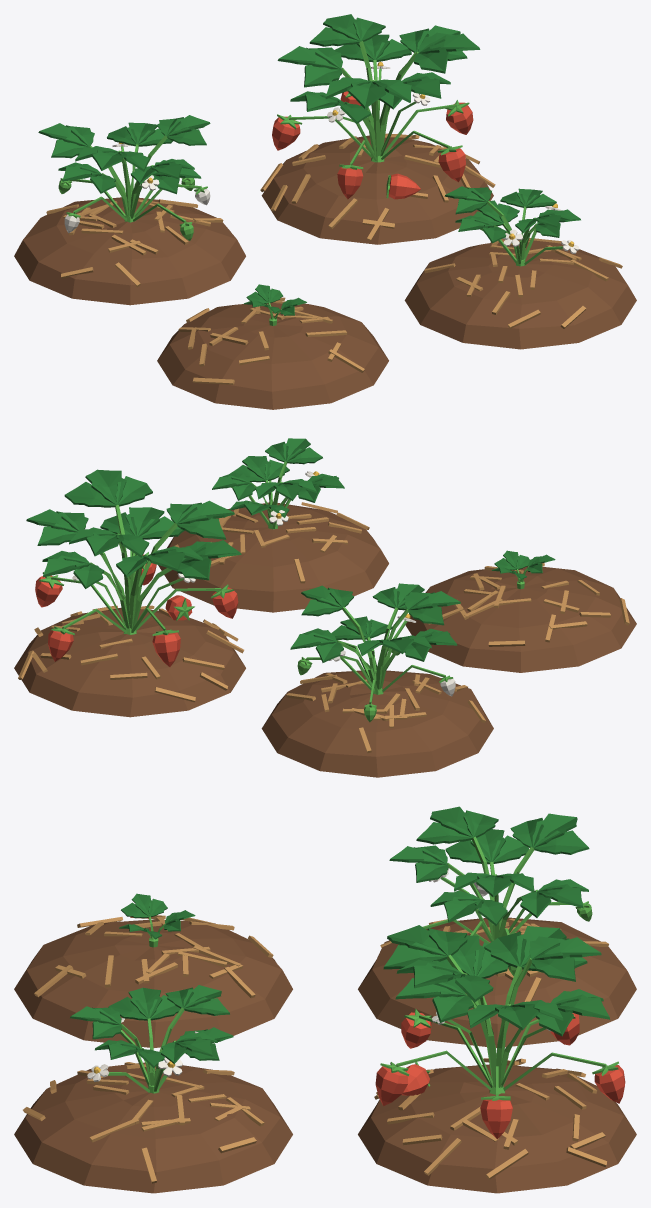
The model's file is strawberry-growth-stages.glb.
The picture shows the model from 3 angles, top to bottom: view 1: azimuth 30°, elevation 25°; view 2: azimuth 150°, elevation 25°; view 3: azimuth 270°, elevation 25°; orthographic projection. The views are drawn at different scales.
Parts seen in each view (by area): view 1: Strawberry_Stage4, Strawberry_Stage3, Strawberry_Stage2, Strawberry_Stage1; view 2: Strawberry_Stage4, Strawberry_Stage3, Strawberry_Stage2, Strawberry_Stage1; view 3: Strawberry_Stage4, Strawberry_Stage2, Strawberry_Stage3, Strawberry_Stage1.
Boxes of the visible parts, box(x1,y1,x2,y2) form: Strawberry_Stage4: box(260, 14, 495, 244); Strawberry_Stage3: box(14, 115, 245, 305); Strawberry_Stage2: box(404, 186, 636, 349); Strawberry_Stage1: box(157, 284, 388, 409); Strawberry_Stage4: box(14, 469, 245, 717); Strawberry_Stage3: box(261, 583, 493, 777); Strawberry_Stage2: box(158, 438, 388, 612); Strawberry_Stage1: box(405, 550, 636, 672); Strawberry_Stage4: box(358, 925, 636, 1193); Strawberry_Stage2: box(14, 985, 292, 1193); Strawberry_Stage3: box(358, 806, 636, 1047); Strawberry_Stage1: box(14, 893, 292, 1047).
Size of the model in its own units: 5.81 by 1.99 by 5.8.
